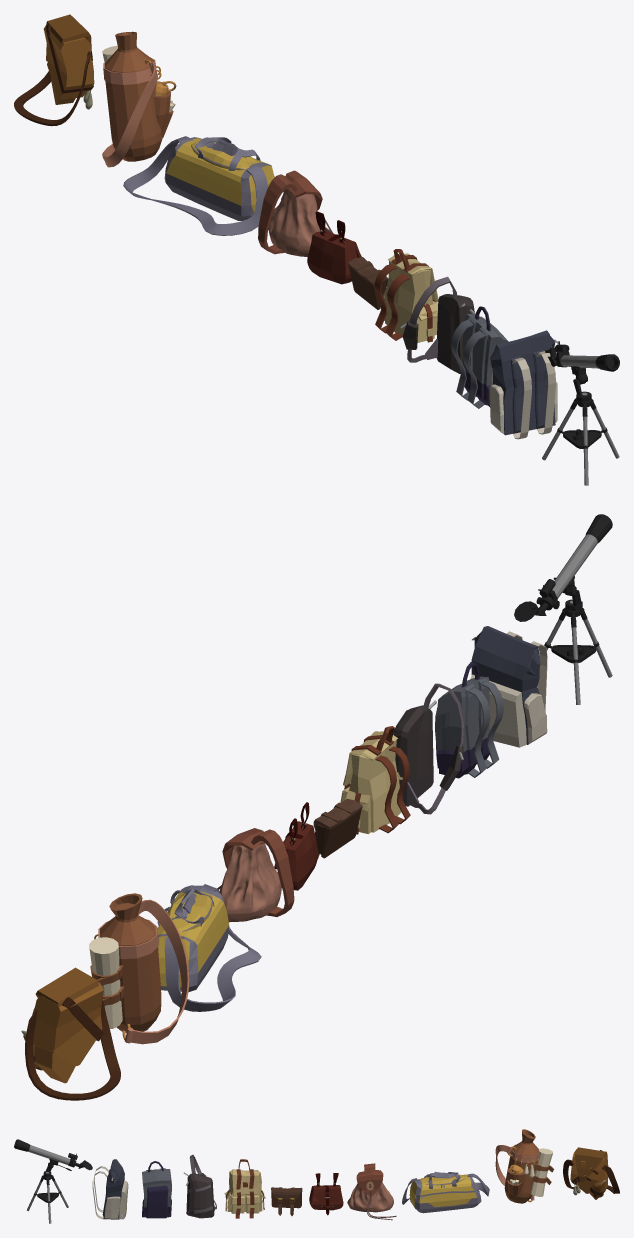
File: zaino.fbx
3 renders of one model, top to bottom at view 1: azimuth 30°, elevation 25°; view 2: azimuth 150°, elevation 25°; view 3: azimuth 270°, elevation 25°, orthographic. The views are drawn at different scales.
Parts seen in each view (by area): view 1: pCube72, pCylinder68, polySurface9, wireShape12, pCube70, pCube85, polySurface2, pCube22, pCube62, pCube30, wireShape15, pTorus3 (+4 smaller); view 2: pCylinder68, pCube70, polySurface2, pCube85, polySurface9, pCube72, pCube22, pCube30, wireShape12, wireShape18, wireShape15, polySurface15 (+9 smaller); view 3: pCube72, pCylinder68, pCube22, pCube70, polySurface2, polySurface3, pCube86, pCube85, polySurface9, pCylinder60, pCube71, pCube35 (+19 smaller).
Part boxes in pixels (x1,y1,x2,y2): pCube72: (164,137,274,220); pCylinder68: (105,31,162,161); polySurface9: (492,330,555,435); wireShape12: (123,136,267,235); pCube70: (268,188,320,257); pCube85: (43,25,94,99); polySurface2: (462,313,508,406); pCube22: (436,294,474,373); pCube62: (307,231,357,284); pCube30: (385,255,433,335); wireShape15: (102,62,157,167); pTorus3: (258,174,297,254); pCylinder68: (100,893,161,1032); pCube70: (219,843,281,922); polySurface2: (435,676,489,778); pCube85: (33,982,103,1065); polySurface9: (471,626,539,744); pCube72: (157,885,229,992); pCube22: (394,705,433,806); pCube30: (349,740,401,832); wireShape12: (164,884,261,1011); wireShape18: (25,999,120,1100); wireShape15: (131,899,189,1044); polySurface15: (470,674,526,747); pCube72: (409,1174,481,1213); pCylinder68: (504,1129,538,1203); pCube22: (186,1173,214,1218); pCube70: (347,1182,393,1212); polySurface2: (142,1169,171,1217); polySurface3: (146,1185,168,1218); pCube86: (574,1147,606,1182); pCube85: (570,1149,608,1193); polySurface9: (102,1159,124,1219); pCylinder60: (530,1148,552,1196); pCube71: (356,1170,383,1196); pCube35: (231,1169,258,1196).
Bounding box in the file's own units: 18.22 × 18.97 × 136.
